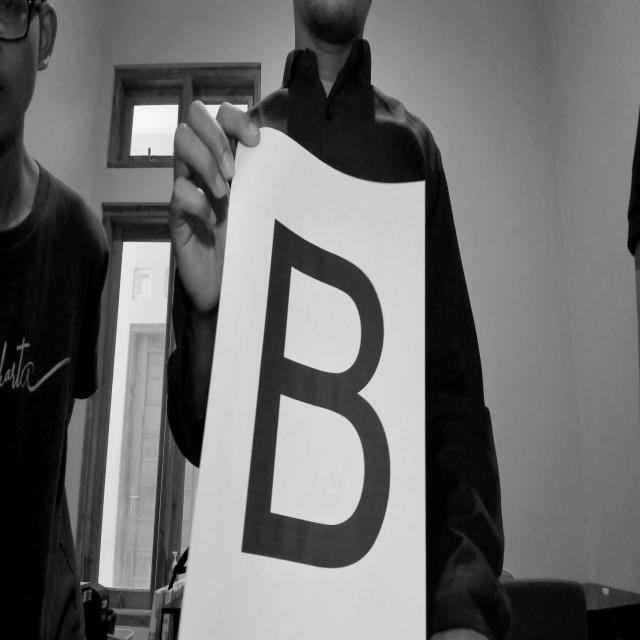b: (235, 187, 404, 590)
